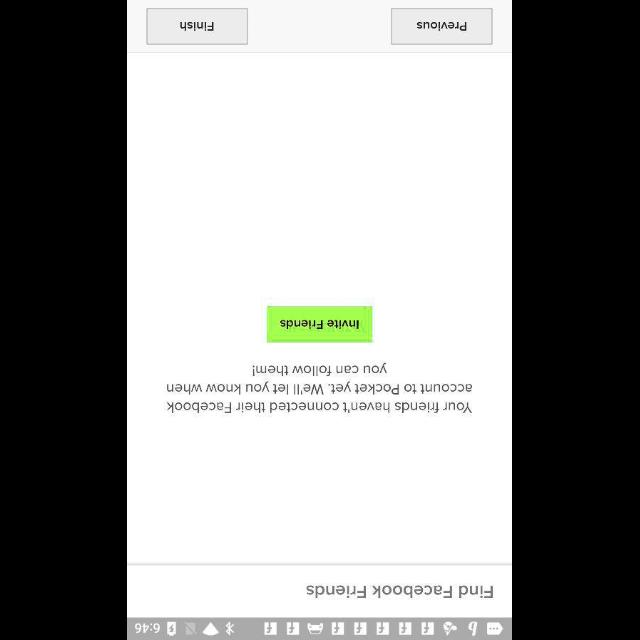text: (167, 362, 473, 414), (307, 584, 493, 598)
textbutton: (391, 8, 493, 46), (268, 306, 372, 342), (147, 8, 249, 44)
uppertaskbar: (128, 617, 512, 639)
